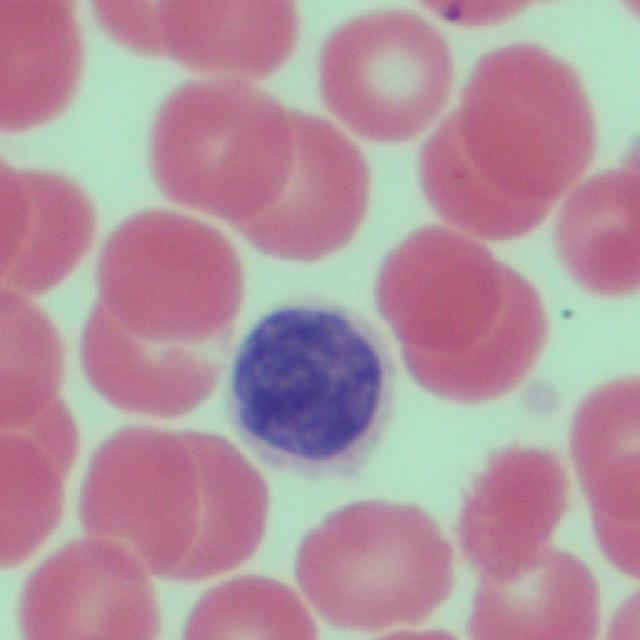RBC: (425, 28, 588, 249), (78, 199, 232, 421), (76, 415, 260, 584), (377, 219, 538, 403), (296, 489, 451, 637), (98, 0, 352, 88), (458, 430, 564, 636), (231, 112, 365, 273), (309, 7, 453, 153), (140, 73, 291, 206), (15, 536, 157, 638), (542, 159, 636, 302), (4, 162, 98, 291), (0, 0, 78, 140), (566, 369, 640, 509), (175, 575, 315, 640), (3, 302, 80, 416)
WBC: (229, 291, 388, 490)
